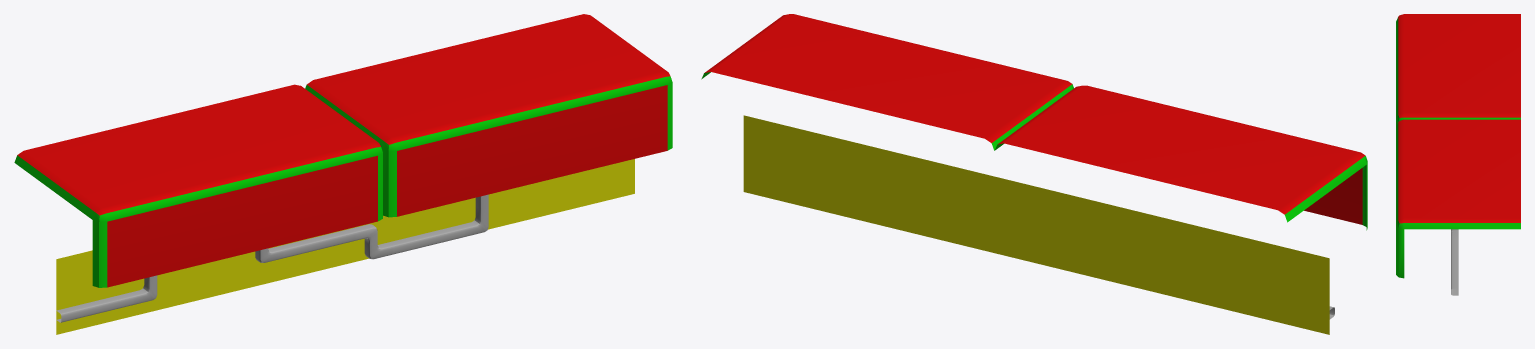
Rendered from StreetTile_V1_High.fbx.
3 views of the same model, side by side, from view 1: azimuth 30°, elevation 25°; view 2: azimuth 150°, elevation 25°; view 3: azimuth 270°, elevation 25° (orthographic). The views are drawn at different scales.
Parts seen in each view (by area): view 1: FloorTile, Pipe; view 2: FloorTile; view 3: FloorTile, Pipe.
Boxes of the visible parts, box(x1,y1,x2,y2) form: FloorTile: box(14, 14, 672, 334); Pipe: box(56, 194, 488, 322); FloorTile: box(701, 14, 1367, 334); FloorTile: box(1396, 14, 1520, 278); Pipe: box(1451, 229, 1458, 295).
Size of the model in its own units: 8 by 2 by 2.
